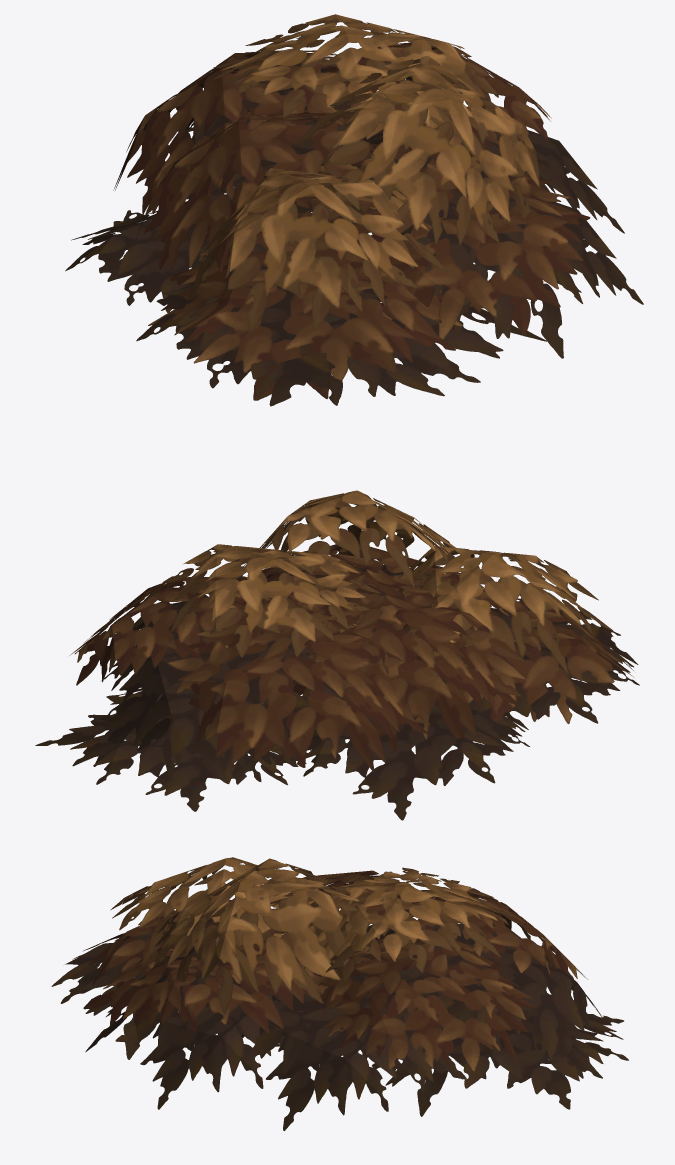
Rendered from bush_dead_04.fbx.
The picture shows the model from 3 angles, top to bottom: view 1: azimuth 30°, elevation 25°; view 2: azimuth 150°, elevation 25°; view 3: azimuth 270°, elevation 25°; orthographic projection. The views are drawn at different scales.
Visible parts, largest first — view 1: obj0.246; view 2: obj0.246; view 3: obj0.246.
Part boxes in pixels (box(x1,y1,x2,y2)): obj0.246: box(65, 14, 643, 406); obj0.246: box(35, 490, 639, 820); obj0.246: box(51, 857, 628, 1130).
Size of the model in its own units: 7.11 by 2.69 by 8.72.
